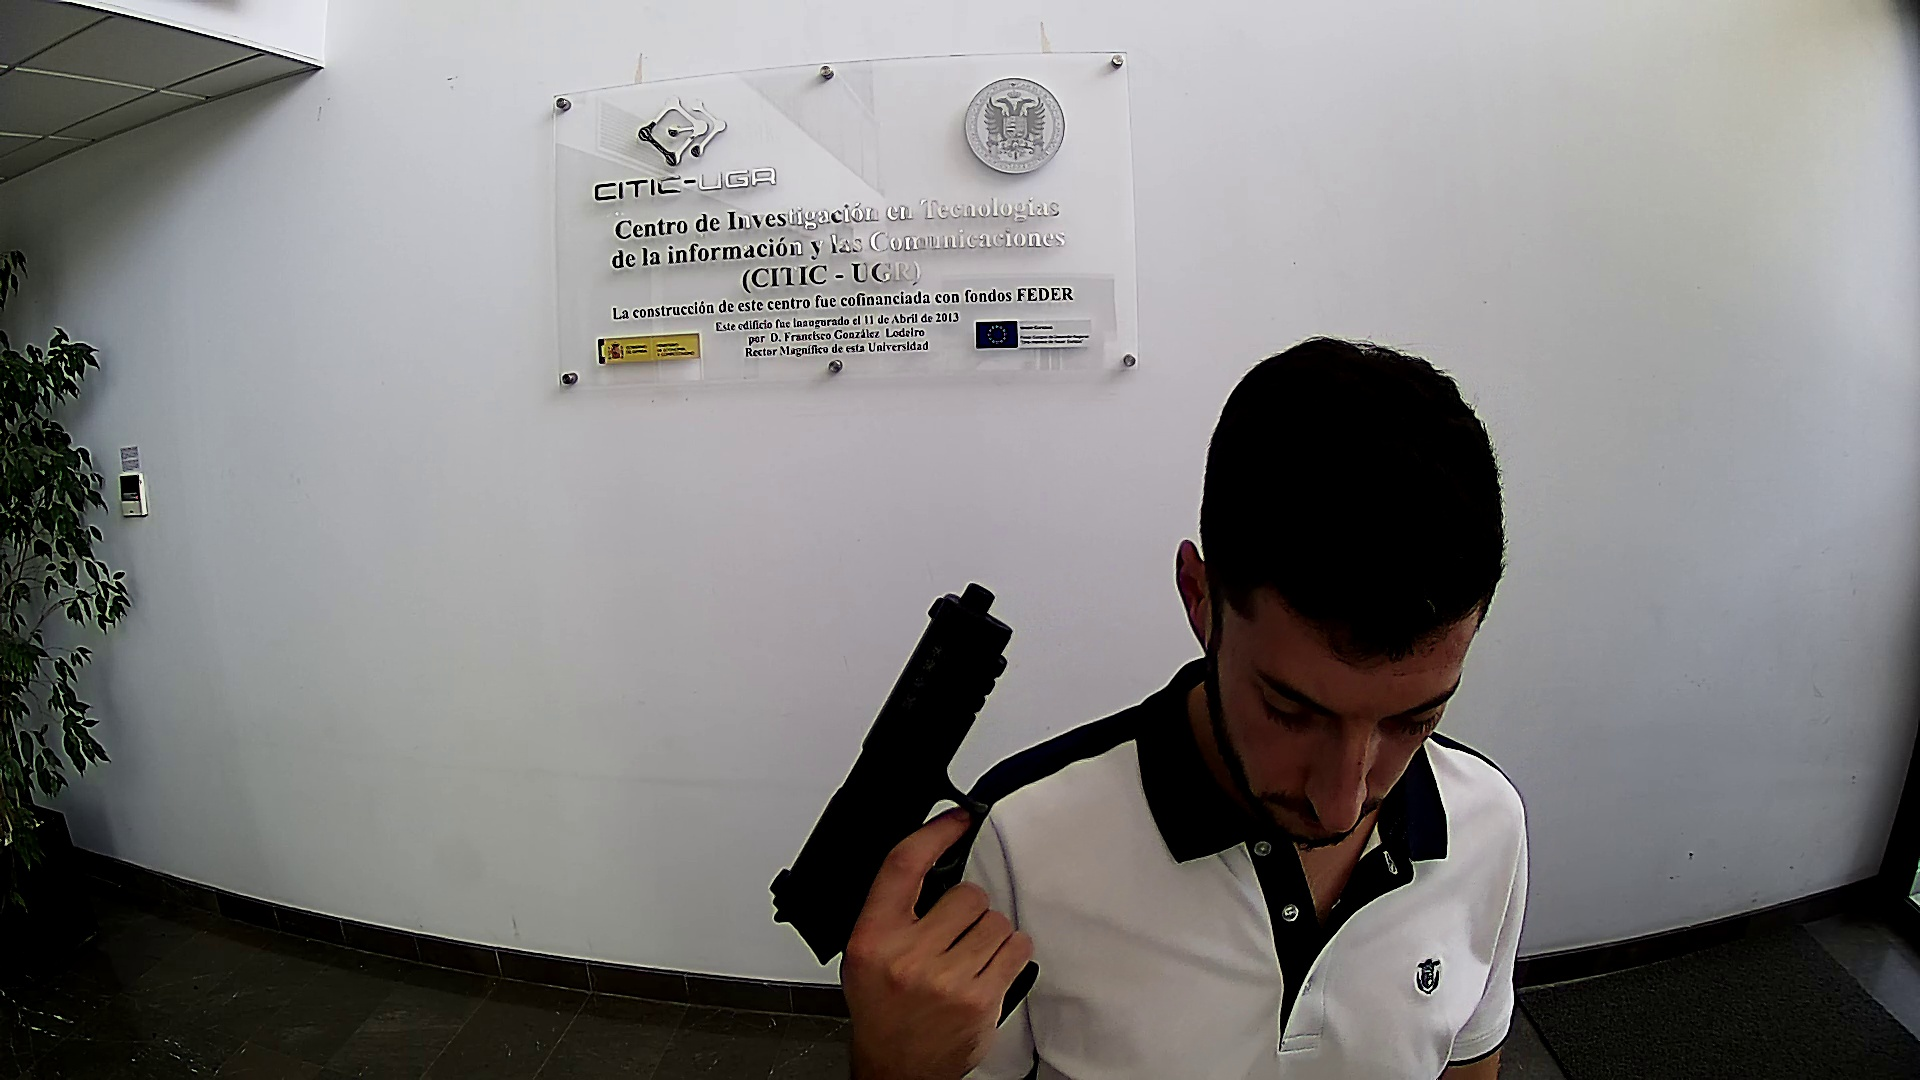pistol: (767, 580, 1043, 1033)
